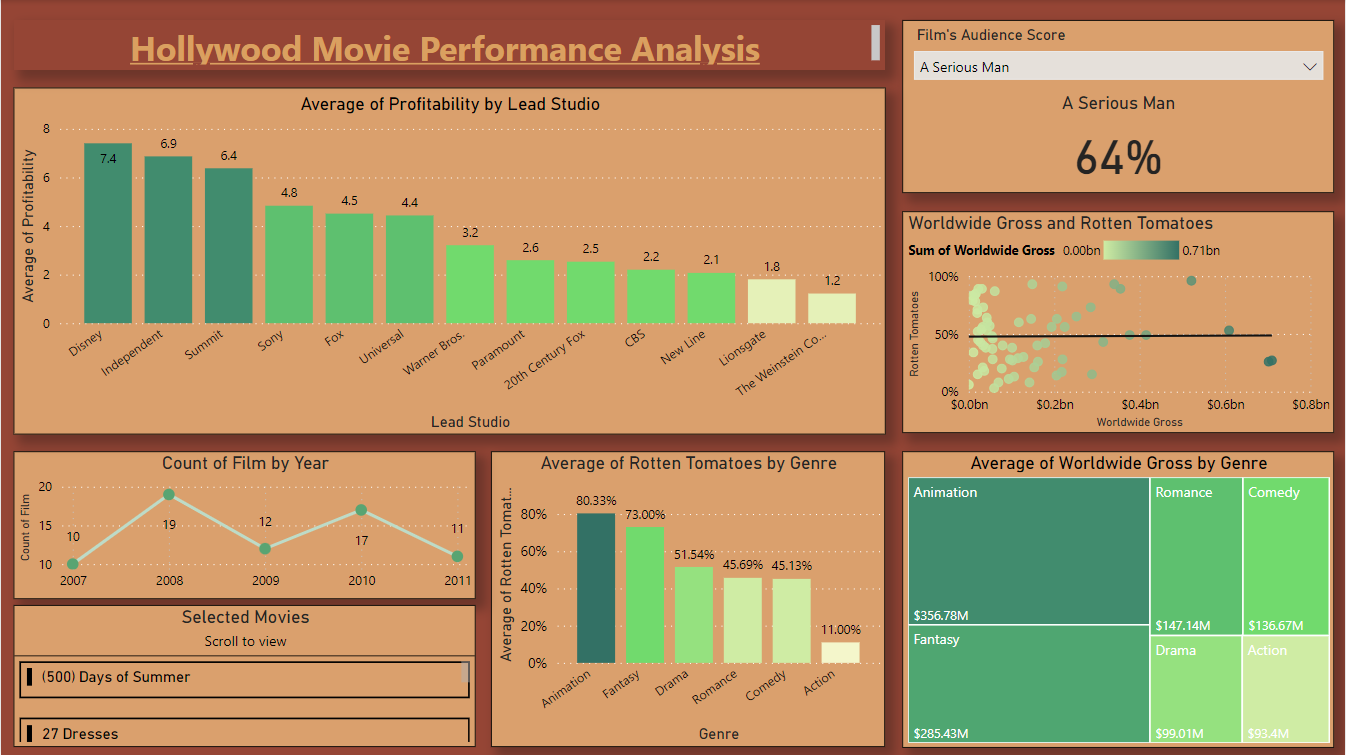

What the dashboard file says about the page in this screenshot:
{"tool":"powerbi","page":{"name":"Page 1","canvas":[1280,720],"ordinal":0},"visuals":[{"type":"clusteredColumnChart","fields":{"Category":["clean_df.Genre"],"Y":["Avg(clean_df.Rotten Tomatoes)"]},"box":[467.1,429.1,375,281.7],"z":0},{"type":"lineChart","fields":{"Category":["clean_df.Year"],"Y":["CountNonNull(clean_df.Film)"]},"box":[11.4,429.1,440,141],"z":1000},{"type":"slicer","fields":{"Values":["clean_df.Film"]},"box":[857.9,18.9,411.6,164.6],"z":2000},{"type":"columnChart","fields":{"Category":["clean_df.Lead Studio"],"Y":["Avg(clean_df.Profitability)"]},"box":[11.4,82.9,830,330],"z":3000},{"type":"treemap","fields":{"Values":["Avg(clean_df.Worldwide Gross)"],"Group":["clean_df.Genre"]},"box":[858.4,429.1,411,282],"z":4000},{"type":"multiRowCard","title":"Selected Movies  ","fields":{"Values":["clean_df.Film"]},"box":[11.4,576.1,440,135],"z":5000},{"type":"card","fields":{"Values":["Sum(clean_df.Audience Score)"]},"box":[857.9,83.6,411.6,99.9],"z":6000},{"type":"scatterChart","fields":{"Y":["clean_df.Rotten Tomatoes"],"X":["clean_df.Worldwide Gross"]},"box":[858.4,201.1,411,211],"z":7000},{"type":"textbox","box":[11.9,19,829.5,47.6],"z":8000}]}

Visuals, with their boxes in screenshot pixels (x1, y1, x2, y2), scaled from the page's 1280x720 canvas onto the 1346x755 screenshot:
clusteredColumnChart - clean_df.Genre x Avg(clean_df.Rotten Tomatoes): [491, 450, 886, 745]
lineChart - clean_df.Year x CountNonNull(clean_df.Film): [12, 450, 475, 598]
slicer - clean_df.Film: [902, 20, 1335, 192]
columnChart - clean_df.Lead Studio x Avg(clean_df.Profitability): [12, 87, 885, 433]
treemap - Avg(clean_df.Worldwide Gross) x clean_df.Genre: [903, 450, 1335, 746]
"Selected Movies  " multiRowCard: [12, 604, 475, 746]
card - Sum(clean_df.Audience Score): [902, 88, 1335, 192]
scatterChart - clean_df.Rotten Tomatoes x clean_df.Worldwide Gross: [903, 211, 1335, 432]
textbox: [13, 20, 885, 70]
